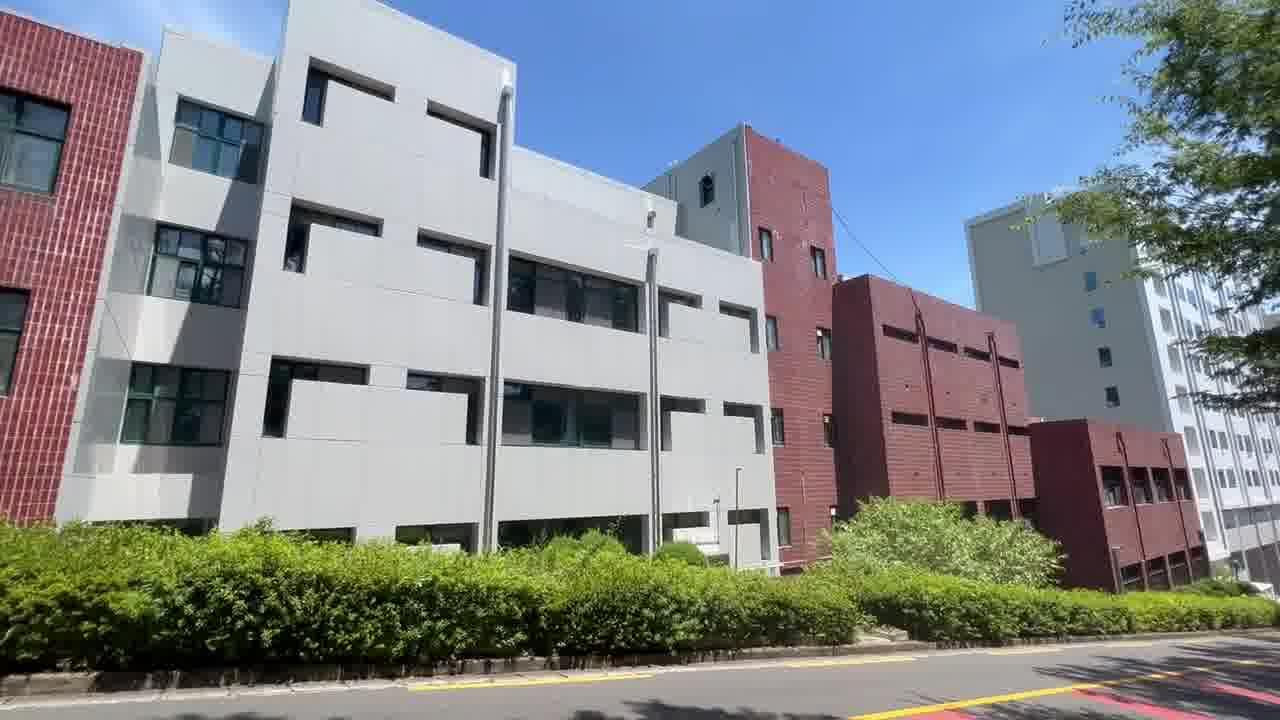building: (0, 0, 1030, 512)
